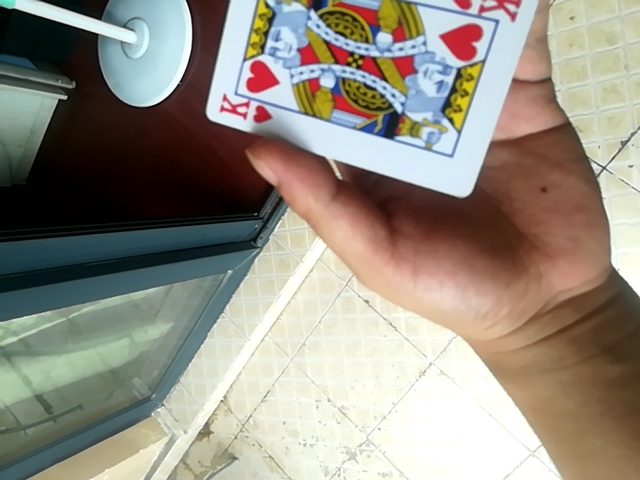hx k: (198, 0, 537, 200)
